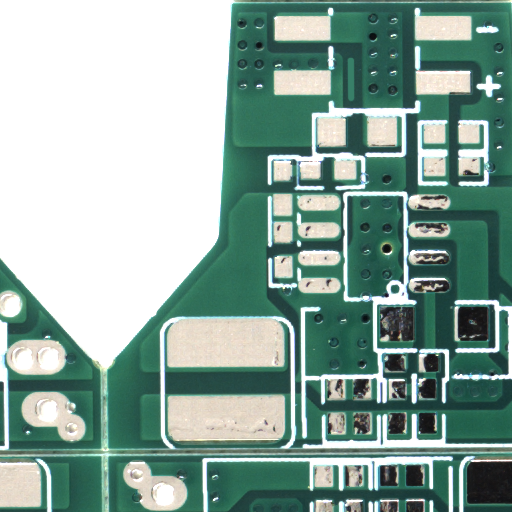Spurious_copper: (351, 78, 364, 124)
